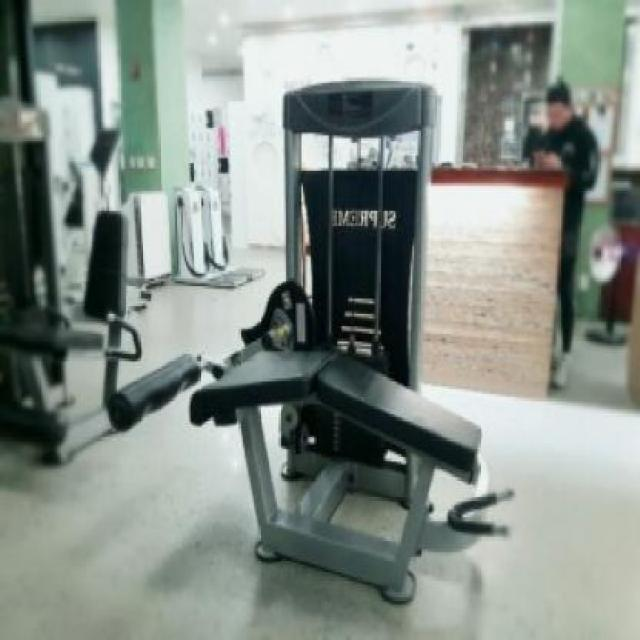reg curl machine: (105, 72, 520, 616)
